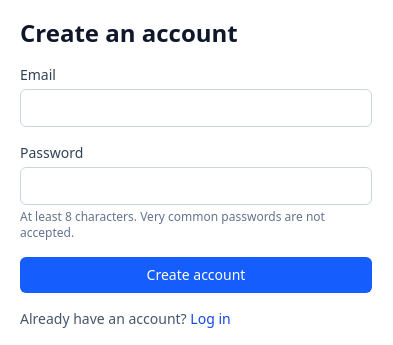
Test: RegisterForm › shows a success message and a link to login on success, without logging the caller in
The image size is (393, 345).
Type "student@example.org" into the field labelled "Email" at {"x": 196, "y": 108}, box x1=20 y1=89 x2=372 y2=127
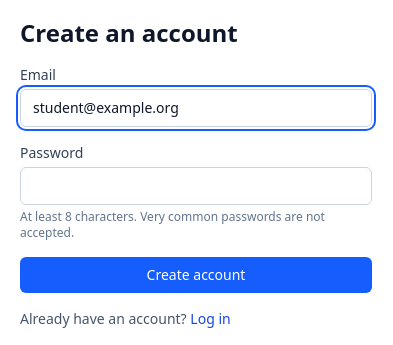
Type "correcthorsebattery" into the password field labelled "Password" at {"x": 196, "y": 186}, box x1=20 y1=167 x2=372 y2=205
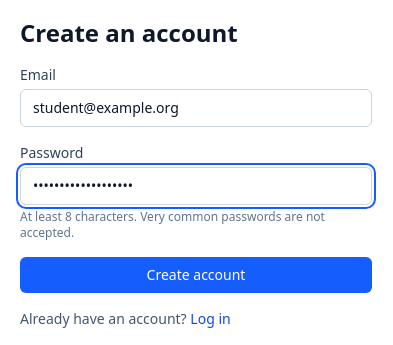
Click the button "Create account" at {"x": 196, "y": 275}, box x1=20 y1=257 x2=372 y2=293
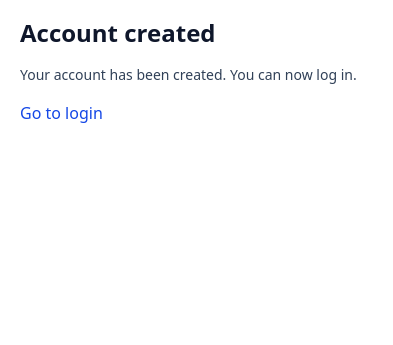
Now the heading "Account created" is shown, box x1=20 y1=16 x2=216 y2=49
